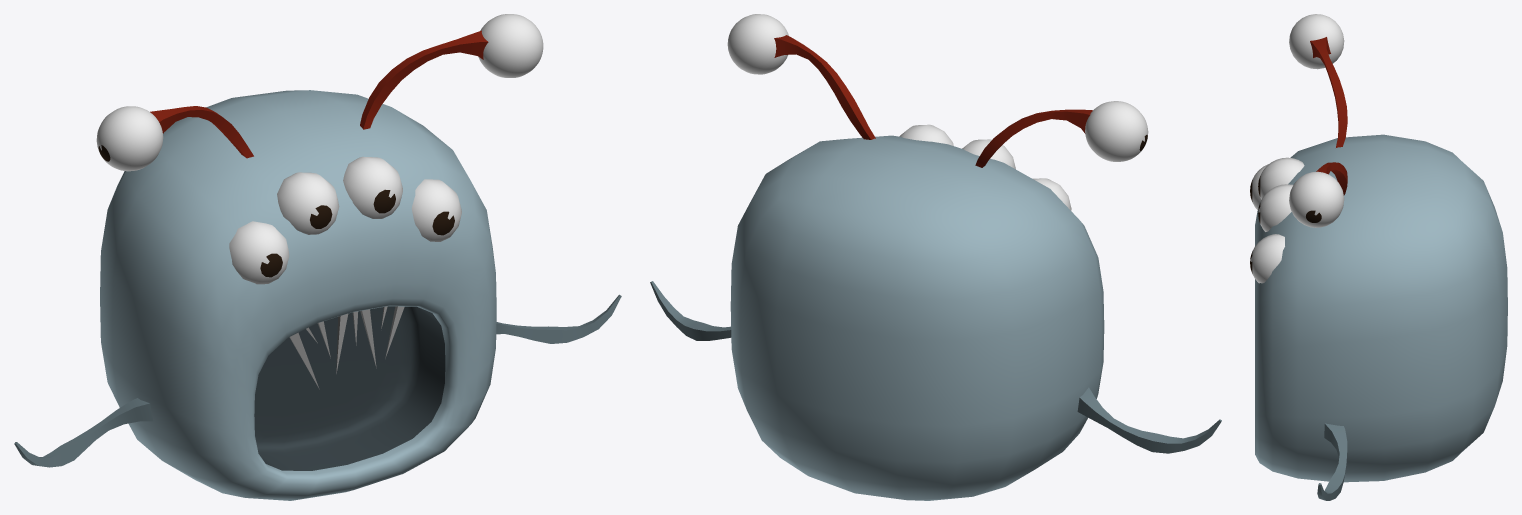
Rendered from monsterr (1).fbx.
3 views of the same model, side by side, from view 1: azimuth 30°, elevation 25°; view 2: azimuth 150°, elevation 25°; view 3: azimuth 270°, elevation 25° (orthographic). The views are drawn at different scales.
Parts seen in each view (by area): view 1: body, eye2, eye1, arm2, arm1; view 2: body, eye2, eye1, arm2, arm1; view 3: body, eye1, eye2, arm1.
Boxes of the visible parts, <box> form: body: <box>100,90,496,500</box>; eye2: <box>360,14,543,129</box>; eye1: <box>96,106,253,171</box>; arm2: <box>14,398,153,467</box>; arm1: <box>496,294,621,343</box>; body: <box>730,124,1104,500</box>; eye2: <box>727,14,875,139</box>; eye1: <box>975,101,1148,167</box>; arm2: <box>1077,387,1221,453</box>; arm1: <box>650,281,731,340</box>; body: <box>1250,134,1507,482</box>; eye1: <box>1289,14,1347,147</box>; eye2: <box>1289,162,1347,227</box>; arm1: <box>1317,423,1347,500</box>.
Size of the model in its own units: 570 by 377 by 246.
